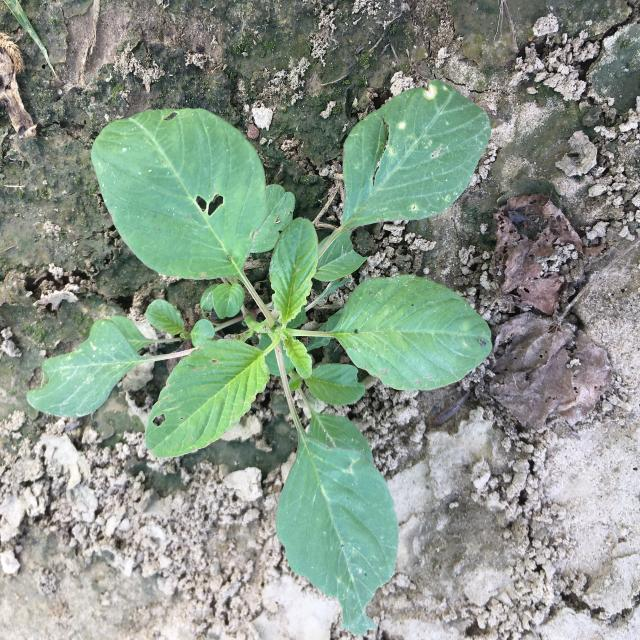PalmerAmaranth: (26, 80, 492, 636)
